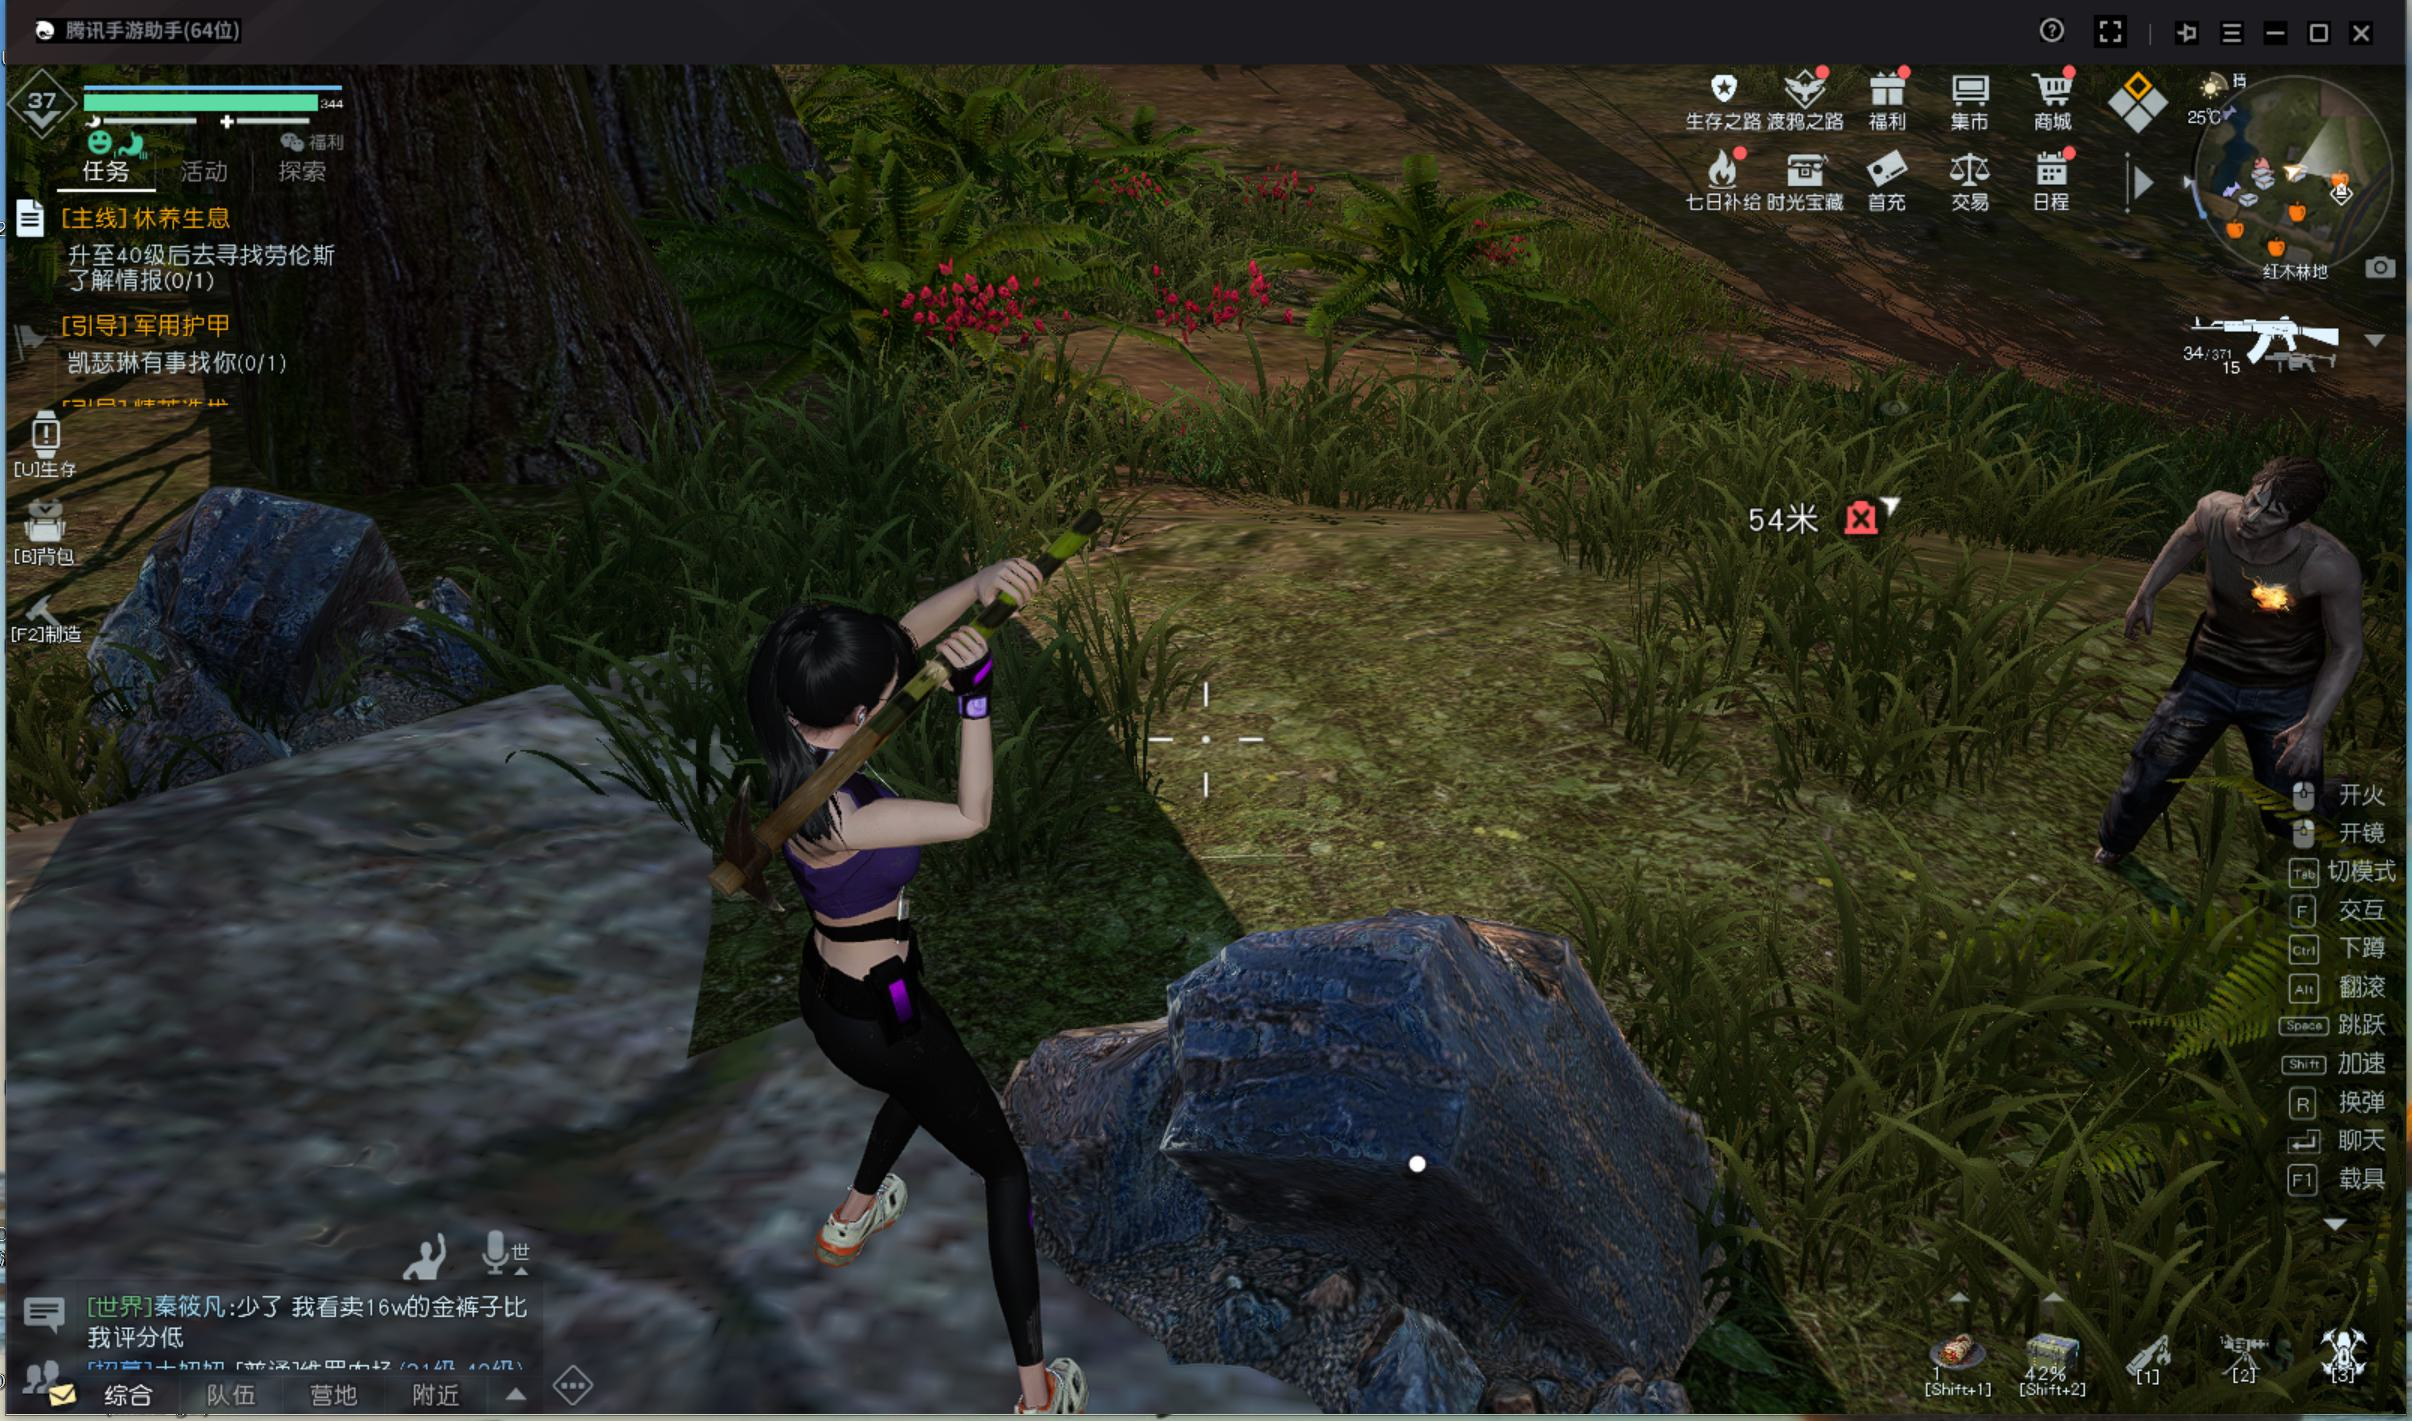stone: (1155, 912, 1798, 1416), (107, 470, 513, 790)
